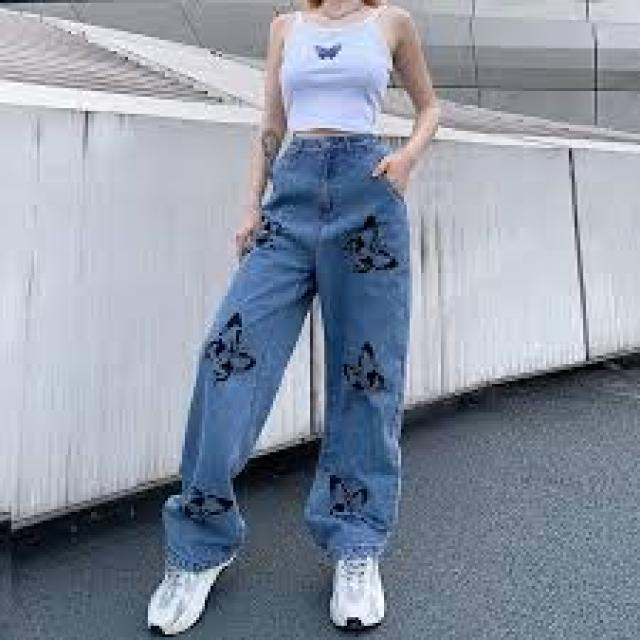pants: (155, 134, 414, 560)
